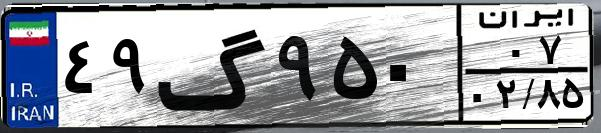0: (385, 28, 445, 110), (508, 27, 537, 80), (470, 70, 495, 125)
2: (495, 70, 520, 125)
4: (57, 26, 110, 100)
5: (330, 28, 385, 110), (560, 70, 590, 125)
7: (537, 27, 568, 80)
8: (535, 70, 560, 125)
9: (270, 28, 330, 110), (110, 28, 156, 98)
گ: (156, 12, 270, 120)
